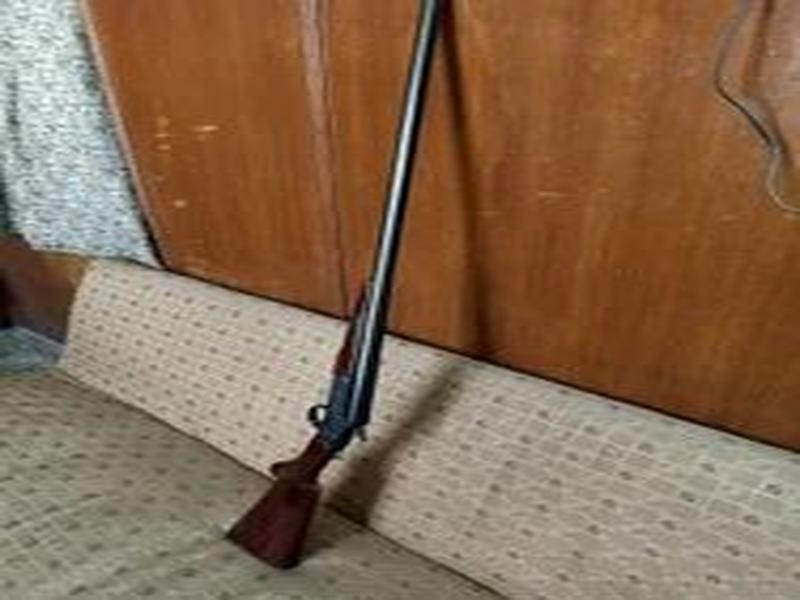GUN: (222, 1, 463, 570)
